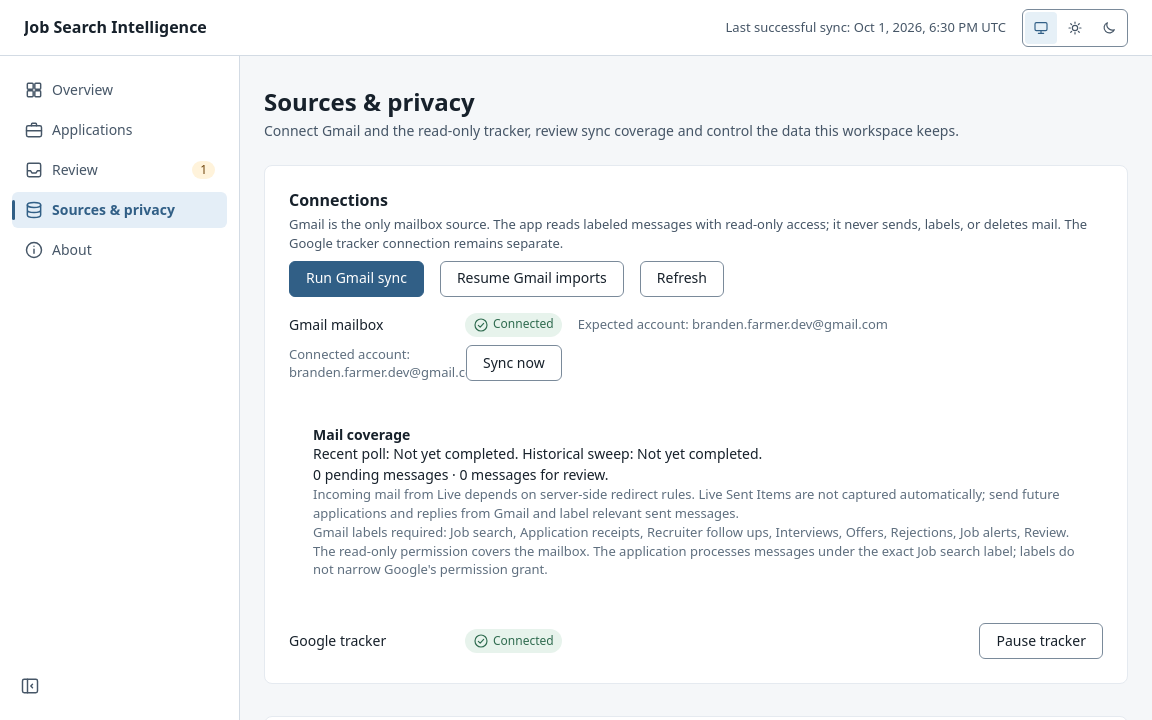
connections and sync › shows a failed action's message in the shell
Click the button "Run Gmail sync". click: point(356, 279)
box: top-left (289, 261), bottom-right (424, 297)
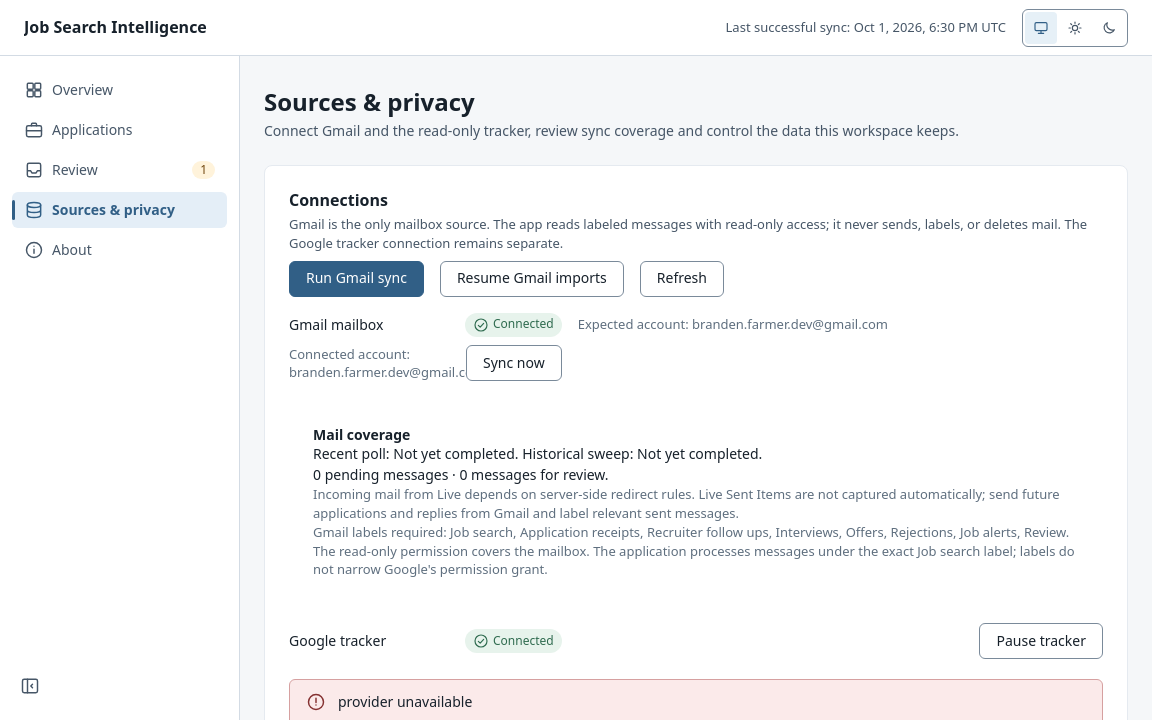
Expected: the text "provider unavailable" is shown, top-left (338, 692), bottom-right (472, 713)
